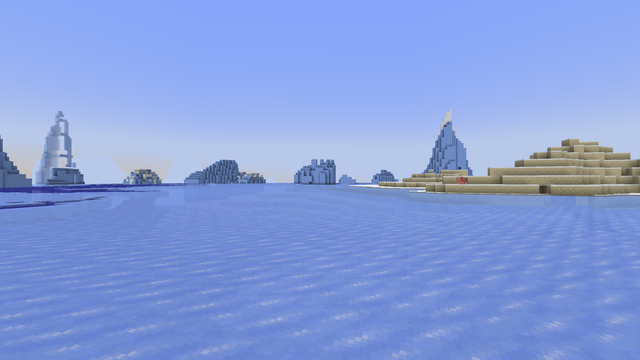cochons: (457, 177, 466, 184)
